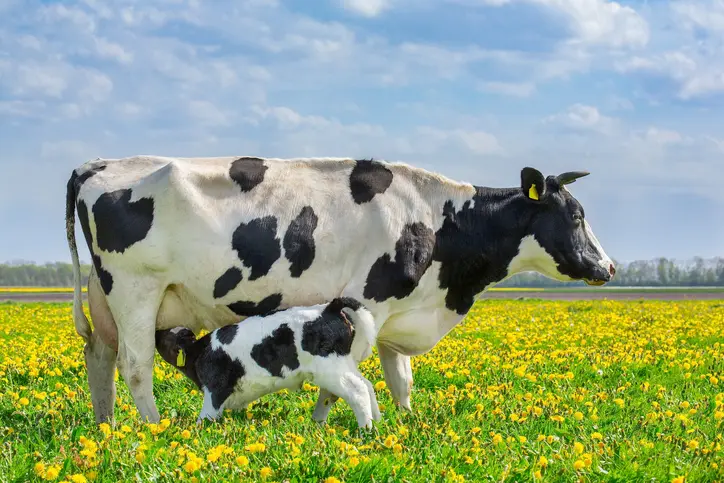cow: (46, 116, 605, 413)
